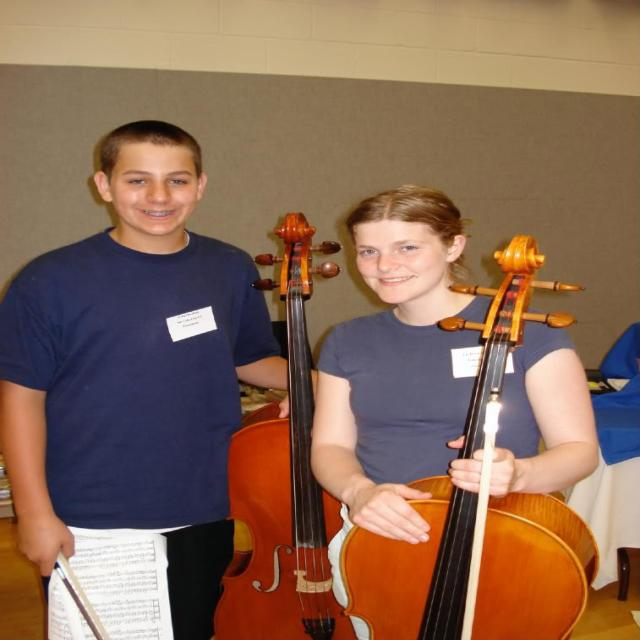cello: (339, 236, 606, 640), (216, 211, 400, 640)
